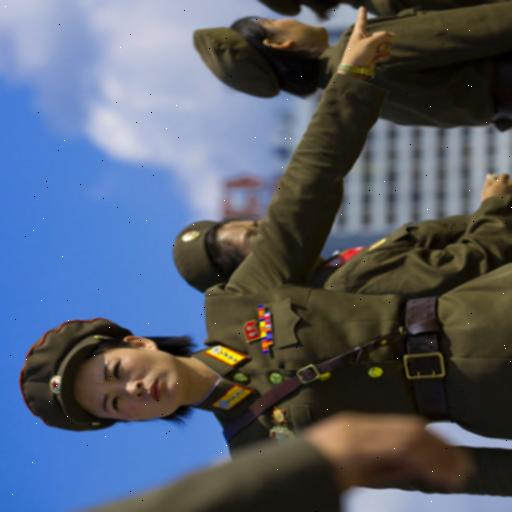north army: (22, 59, 512, 512)
